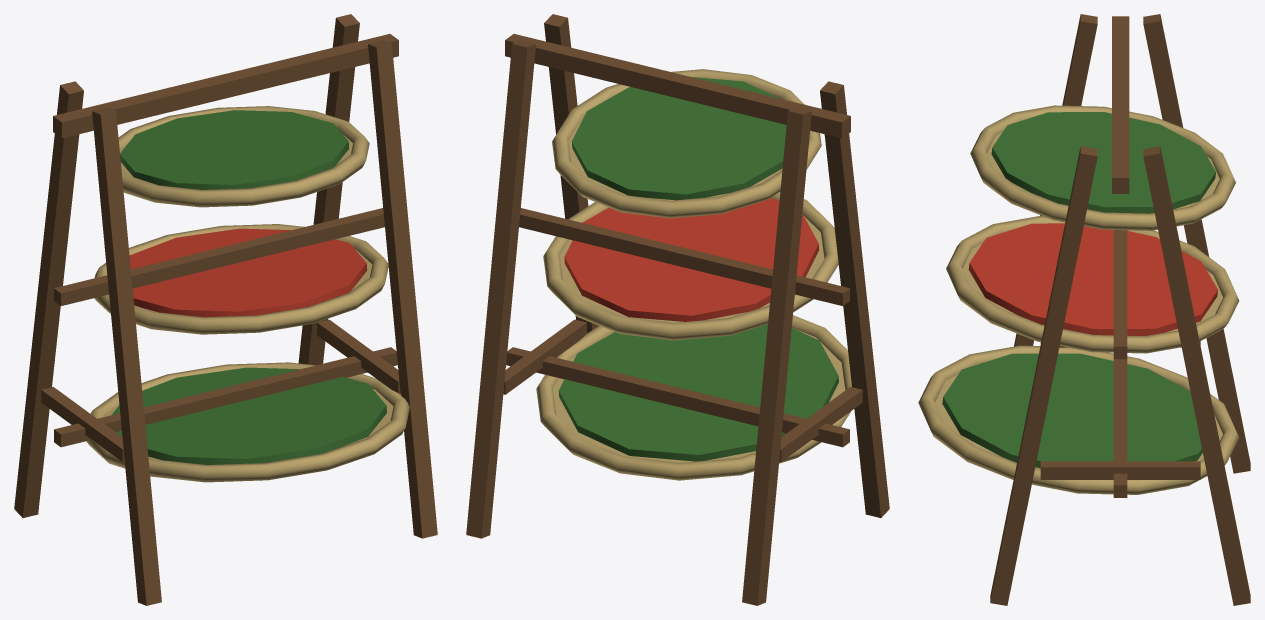
File: pal1-herb-stand.glb
3 views of the same model, side by side, from view 1: azimuth 30°, elevation 25°; view 2: azimuth 150°, elevation 25°; view 3: azimuth 270°, elevation 25° (orthographic).
Visible parts, largest first — view 1: Pal1HerbStand; view 2: Pal1HerbStand; view 3: Pal1HerbStand.
Part boxes in pixels (x1,y1,x2,y2): Pal1HerbStand: (14,14,437,605); Pal1HerbStand: (466,14,889,605); Pal1HerbStand: (918,14,1250,605).
Size of the model in its own units: 1.1 by 1.44 by 0.956.
